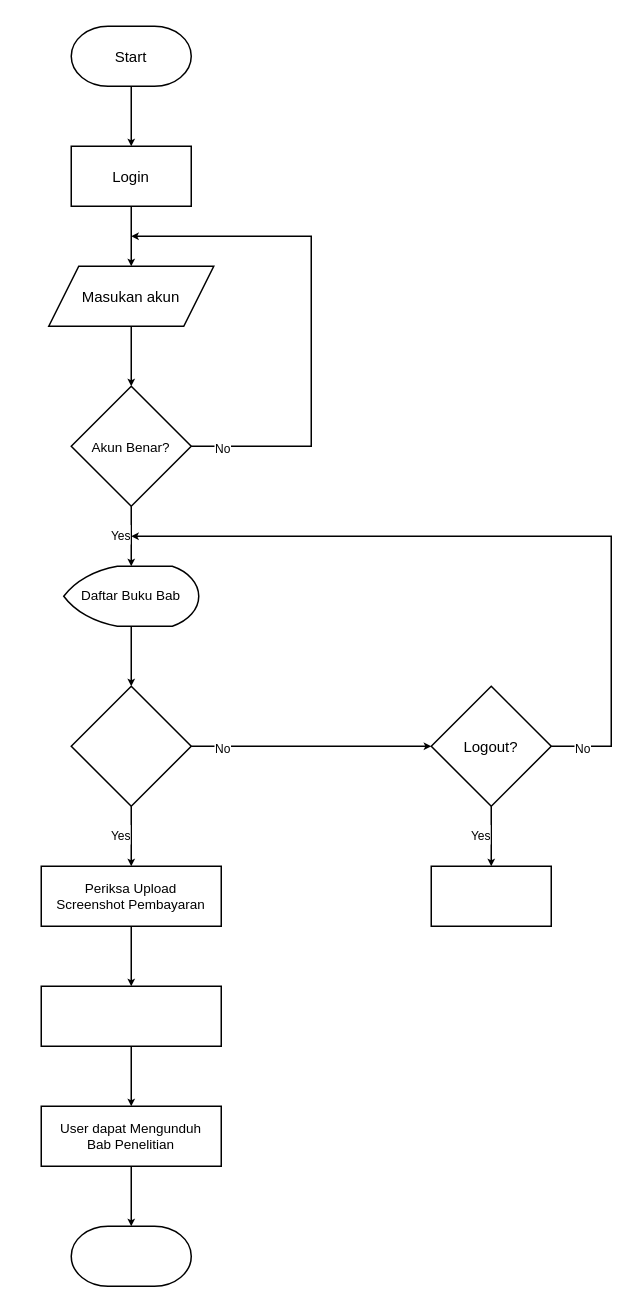
This 644x1313 diagram has some shape labels left out. The centre of each missing label's shape, as x and y in pixels:
End: (x=130, y=1255)
Konfirmasi Pembarayan (Status: Approved): (x=130, y=1015)
Logout: (x=490, y=895)
Upload Bab atau Buku: (x=130, y=745)
